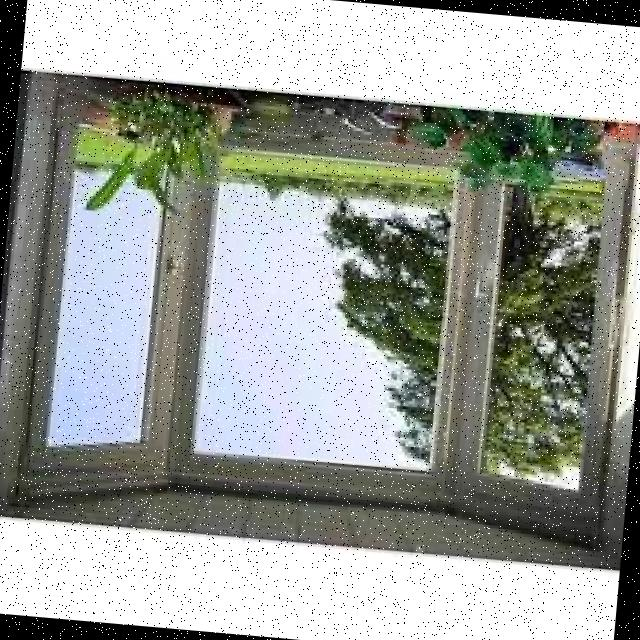Window: (14, 114, 637, 554)
